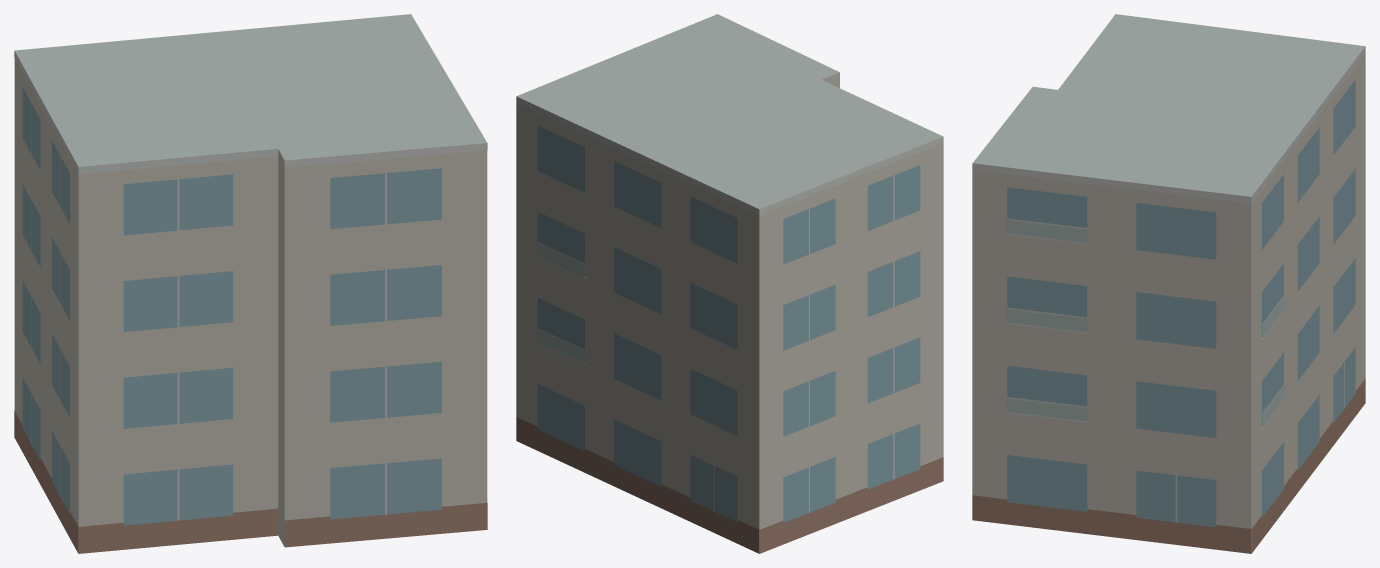
Rendered from survey-upis-32856485.glb.
3 renders of one model, left to right at view 1: azimuth 30°, elevation 25°; view 2: azimuth 150°, elevation 25°; view 3: azimuth 270°, elevation 25°, orthographic. The views are drawn at different scales.
Visible parts, largest first — view 1: survey-upis-32856485.tmp; view 2: survey-upis-32856485.tmp; view 3: survey-upis-32856485.tmp.
Part boxes in pixels (bbox=[...]): survey-upis-32856485.tmp: bbox=[14, 14, 487, 553]; survey-upis-32856485.tmp: bbox=[516, 14, 943, 553]; survey-upis-32856485.tmp: bbox=[972, 14, 1365, 553].
Bounding box in the file's own units: 14.08 × 12.8 × 12.78.
